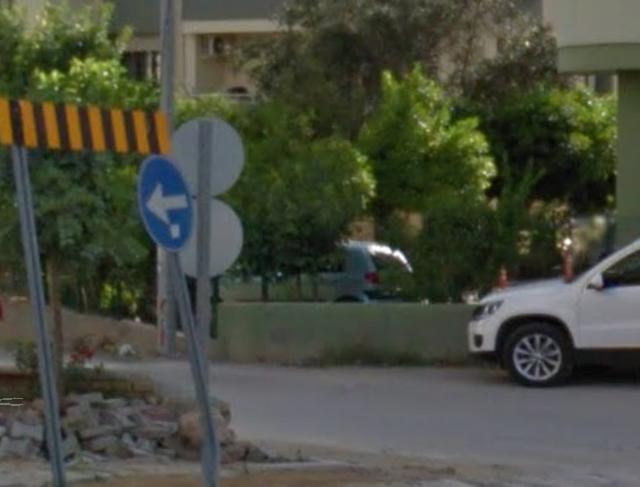turnleft: (141, 155, 195, 247)
